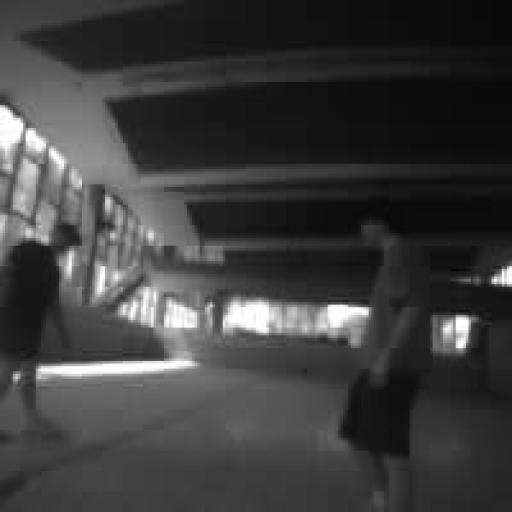human: (341, 210, 432, 511), (0, 223, 81, 435)
